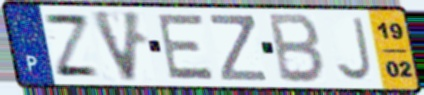B: (268, 11, 328, 86)
E: (156, 12, 217, 82)
J: (332, 15, 375, 83)
V: (88, 8, 145, 84)
Z: (206, 12, 270, 83), (40, 12, 103, 80)
